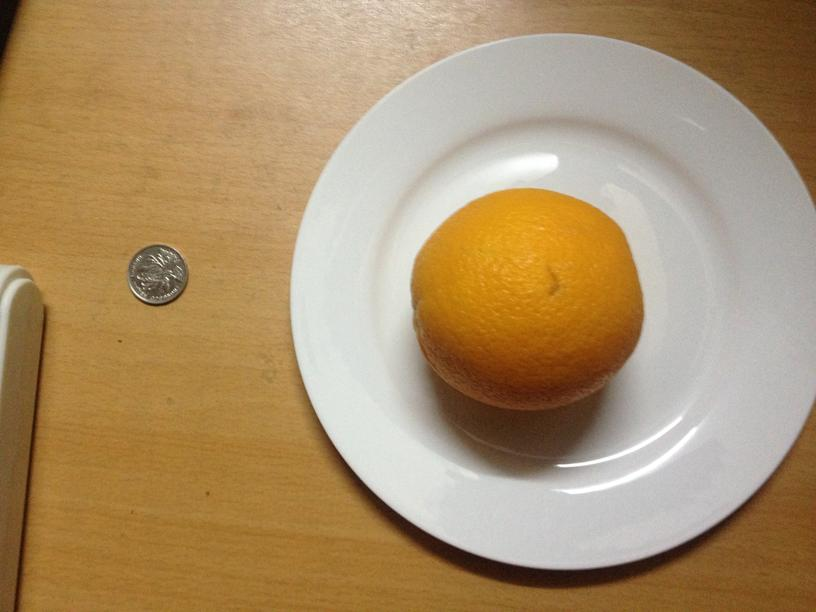coin: (126, 242, 188, 307)
orange: (409, 183, 644, 413)
